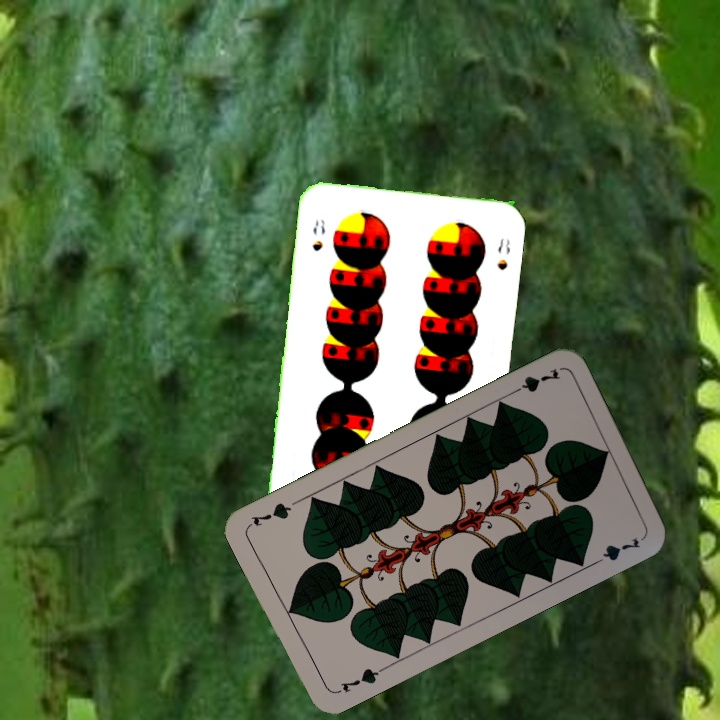G7: (506, 364, 563, 398), (331, 664, 386, 697)
S8: (308, 215, 328, 254)
